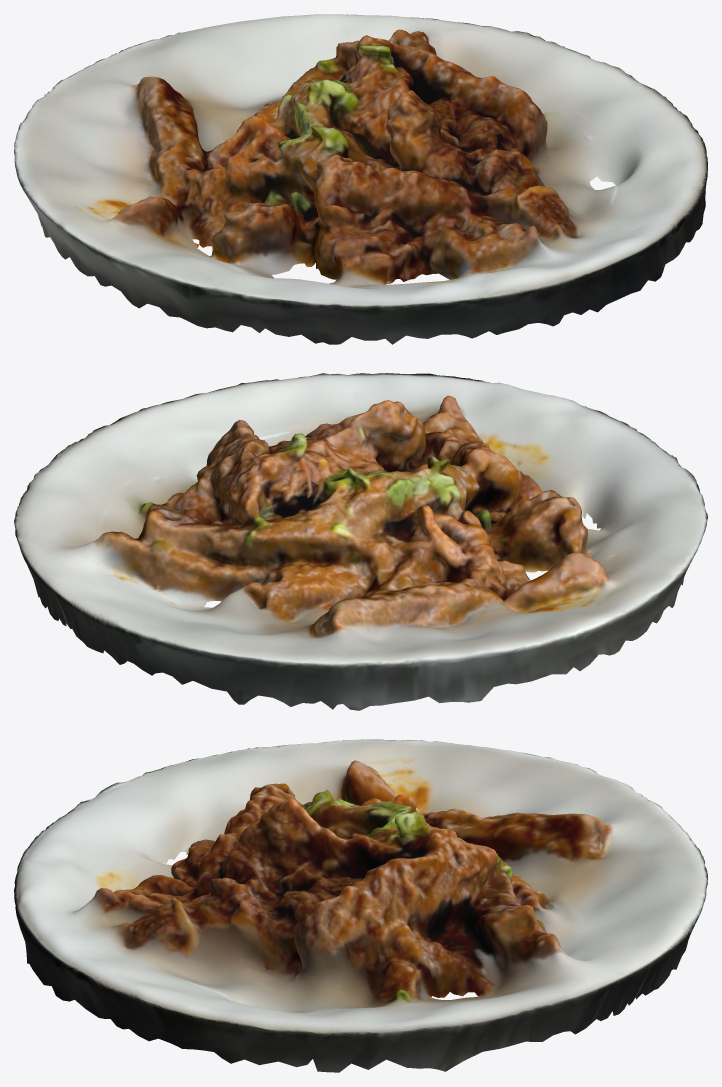
File: meu-produto.glb
The picture shows the model from 3 angles, top to bottom: view 1: azimuth 30°, elevation 25°; view 2: azimuth 150°, elevation 25°; view 3: azimuth 270°, elevation 25°; orthographic projection.
Parts seen in each view (by area): view 1: produto; view 2: produto; view 3: produto.
Part boxes in pixels (box(x1,y1,x2,y2)): produto: box(14, 14, 707, 344); produto: box(14, 373, 707, 710); produto: box(14, 739, 707, 1072).
Size of the model in its own units: 0.2946 by 0.0685 by 0.3.
1 material, 1 textured.
